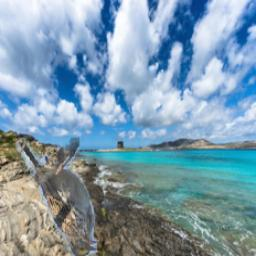Sparrow: (15, 138, 97, 256)
